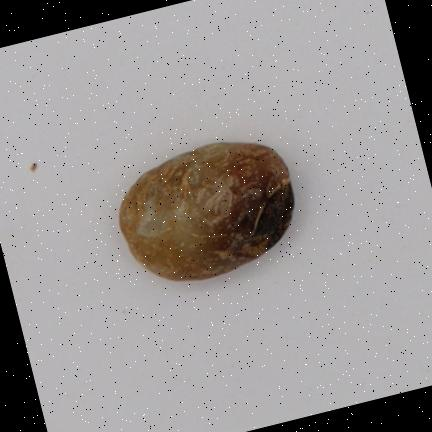partial-black: (120, 142, 294, 280)
